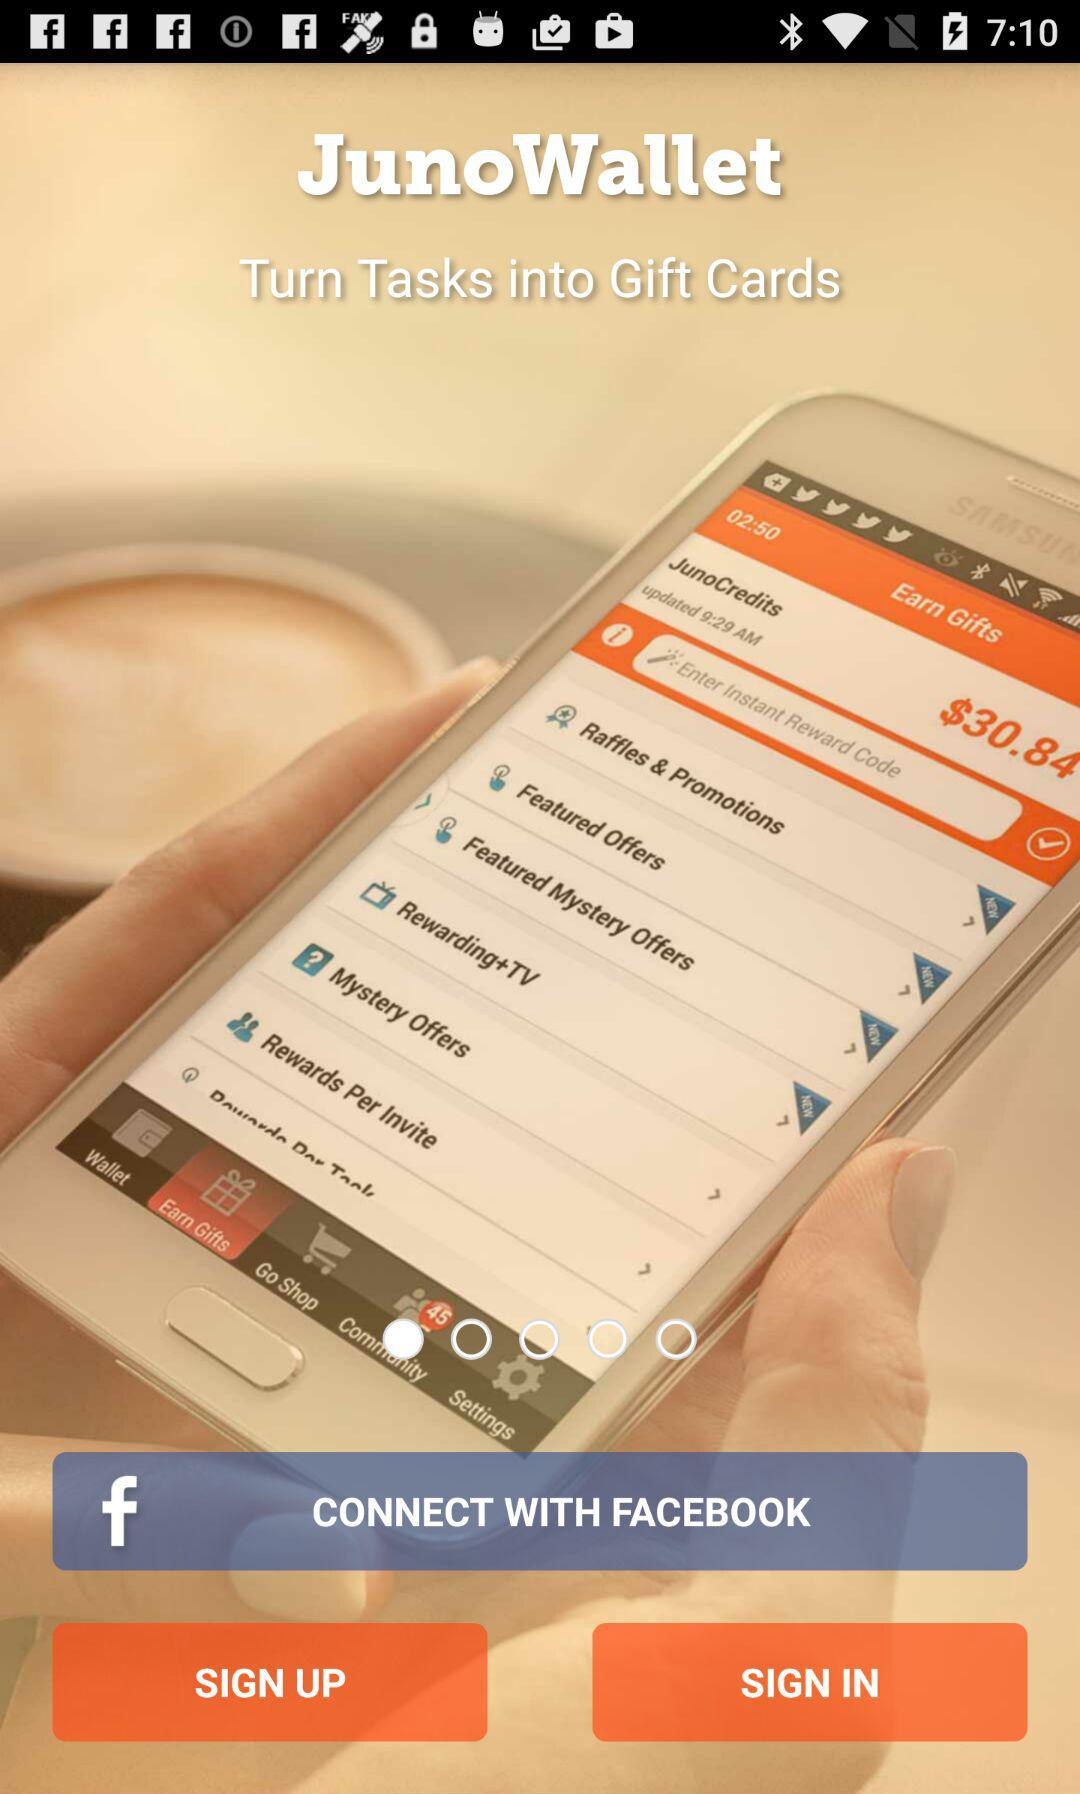BackgroundImage: (1, 64, 1080, 1794)
PageIndicator: (380, 1316, 700, 1362)
Text: (296, 131, 784, 201), (238, 255, 842, 302)
TextButton: (53, 1452, 1027, 1571), (53, 1622, 489, 1741), (592, 1622, 1027, 1741)
UpperTaskBar: (1, 1, 1080, 64)
